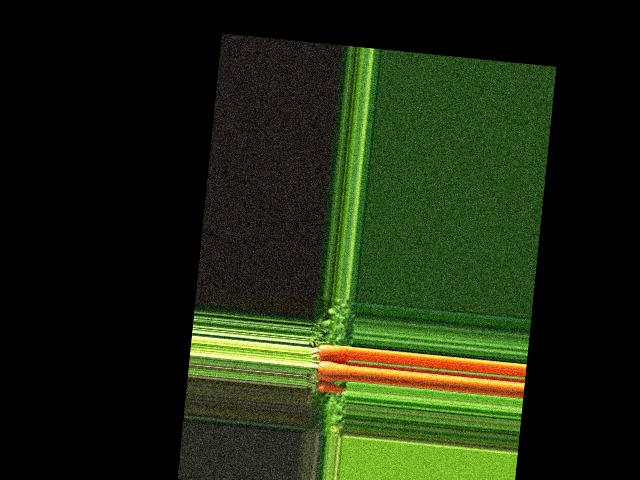carrot: (314, 379, 349, 397)
